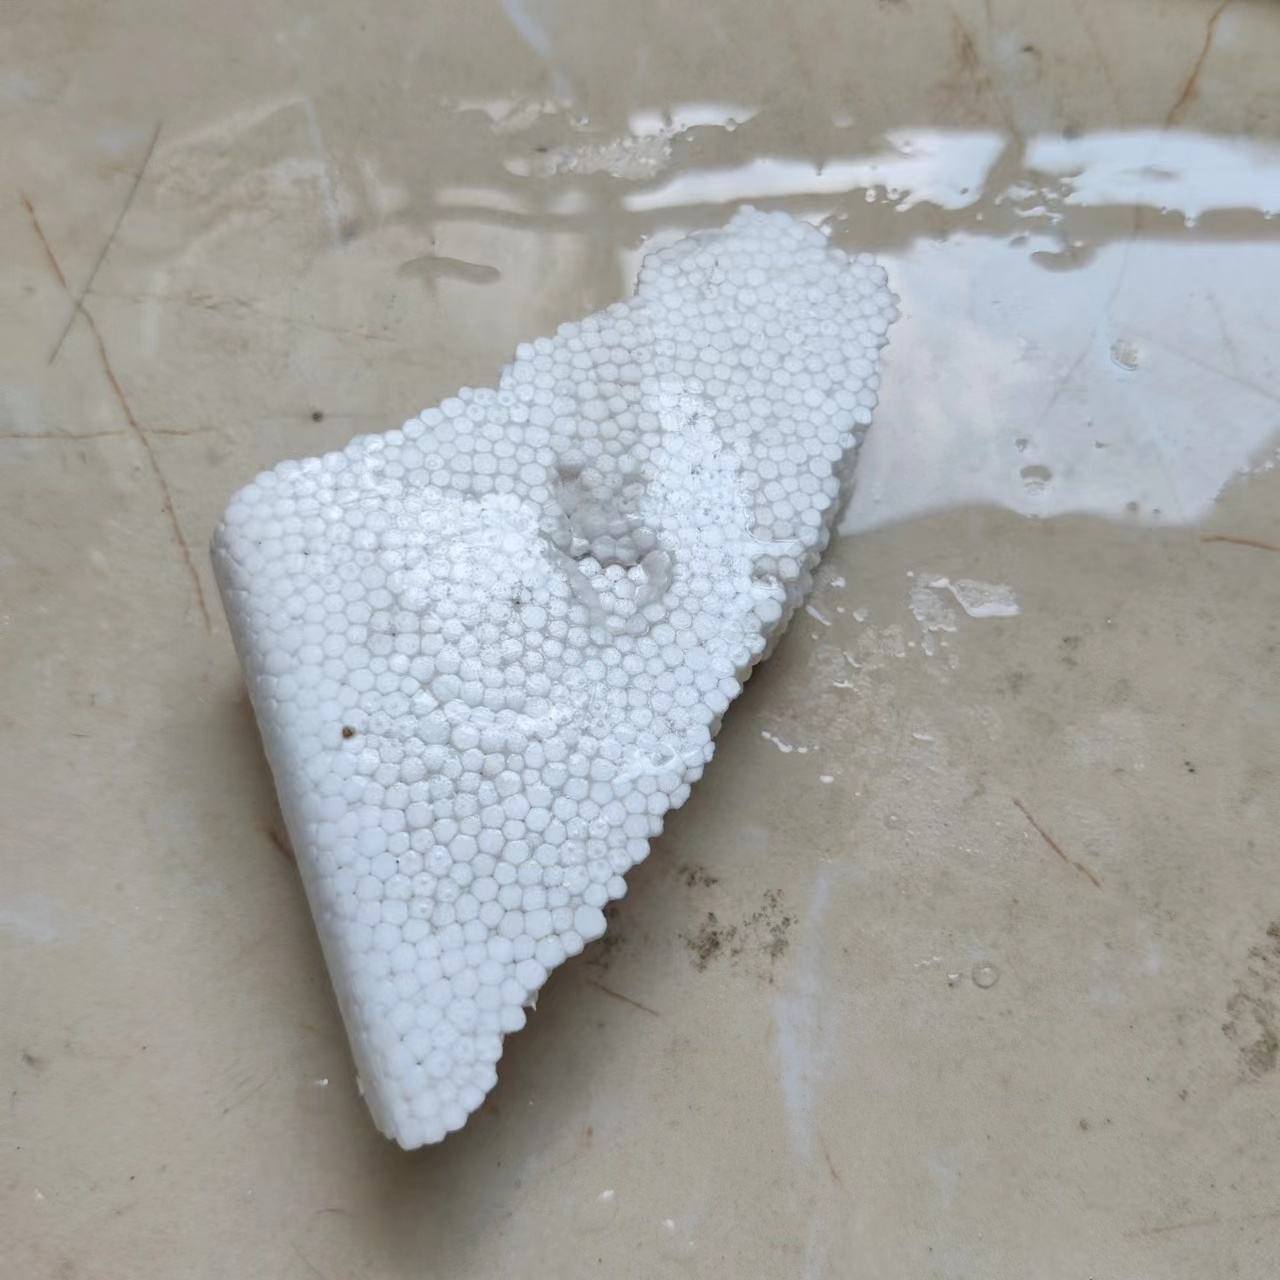5/可回收垃圾/泡沫: (207, 203, 903, 1150)
